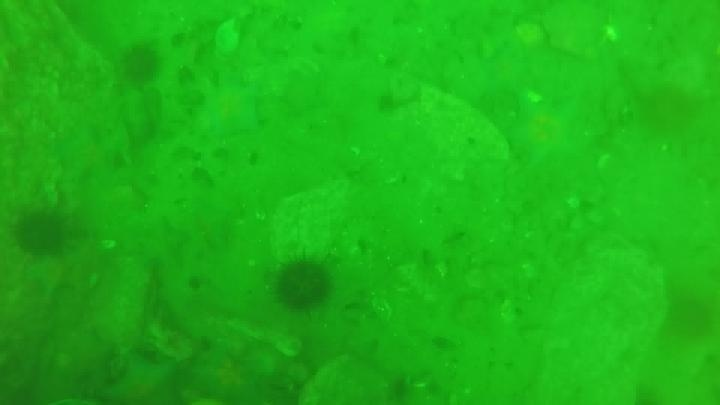echinus: (272, 255, 335, 313), (638, 85, 698, 137), (12, 207, 72, 258), (664, 293, 715, 341), (118, 42, 163, 87)
starfish: (505, 97, 584, 170), (100, 352, 190, 404), (197, 80, 265, 140), (22, 254, 80, 301)
